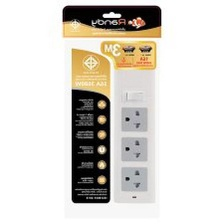book: (61, 4, 163, 219)
three_eye_plug: (111, 60, 159, 205)
